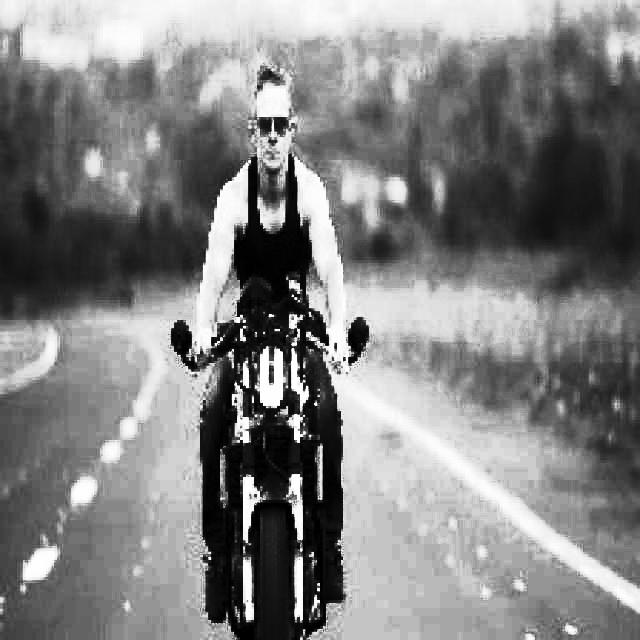Bike: (221, 296, 323, 639)
